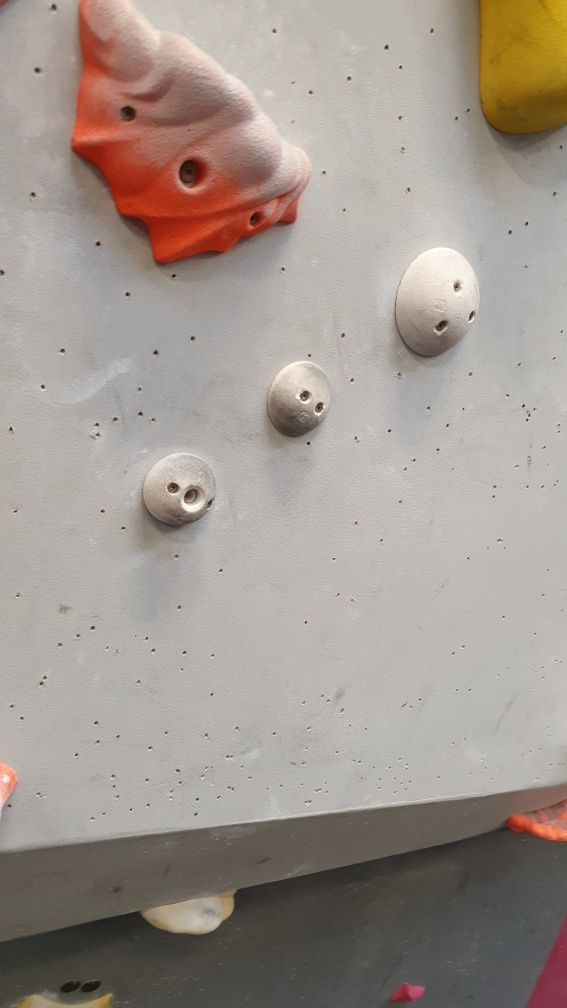Hand Start: (78, 974, 105, 999), (58, 974, 81, 998)
Jug: (63, 1, 313, 266)
Sloper: (392, 241, 485, 360), (140, 445, 218, 530), (263, 356, 334, 440)
